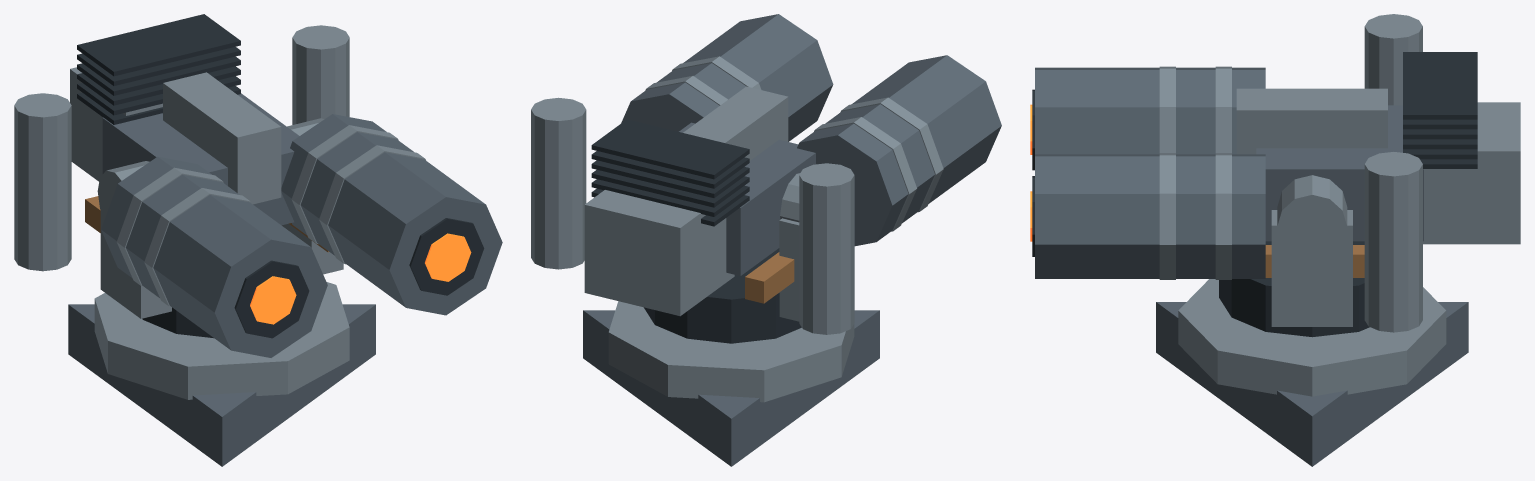
The model's file is kiln_t2_d0.glb.
3 renders of one model, left to right at view 1: azimuth 30°, elevation 25°; view 2: azimuth 150°, elevation 25°; view 3: azimuth 270°, elevation 25°, orthographic. The views are drawn at different scales.
Visible parts, largest first — view 1: RECOIL_ARMOR_GEOMETRY, BASE_ARMOR_GEOMETRY, YAW_ARMOR_GEOMETRY, RECOIL_SIGNAL_GEOMETRY; view 2: RECOIL_ARMOR_GEOMETRY, BASE_ARMOR_GEOMETRY, YAW_ARMOR_GEOMETRY; view 3: RECOIL_ARMOR_GEOMETRY, BASE_ARMOR_GEOMETRY, YAW_ARMOR_GEOMETRY.
Boxes of the visible parts, bbox=[...] form: RECOIL_ARMOR_GEOMETRY: bbox=[14, 14, 502, 357]; BASE_ARMOR_GEOMETRY: bbox=[68, 282, 375, 466]; YAW_ARMOR_GEOMETRY: bbox=[100, 211, 343, 338]; RECOIL_SIGNAL_GEOMETRY: bbox=[250, 233, 471, 324]; RECOIL_ARMOR_GEOMETRY: bbox=[531, 14, 1001, 334]; BASE_ARMOR_GEOMETRY: bbox=[583, 301, 879, 466]; YAW_ARMOR_GEOMETRY: bbox=[644, 218, 801, 343]; RECOIL_ARMOR_GEOMETRY: bbox=[1032, 14, 1520, 332]; BASE_ARMOR_GEOMETRY: bbox=[1156, 279, 1468, 466]; YAW_ARMOR_GEOMETRY: bbox=[1219, 210, 1369, 337].
Bounding box in the file's own units: 1.65 × 1.46 × 2.11.
